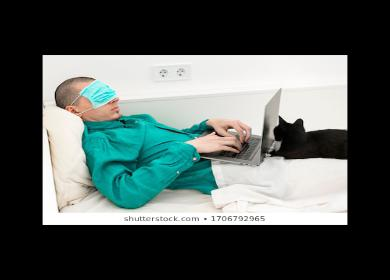mask_weared_incorrect: (75, 78, 122, 119)
